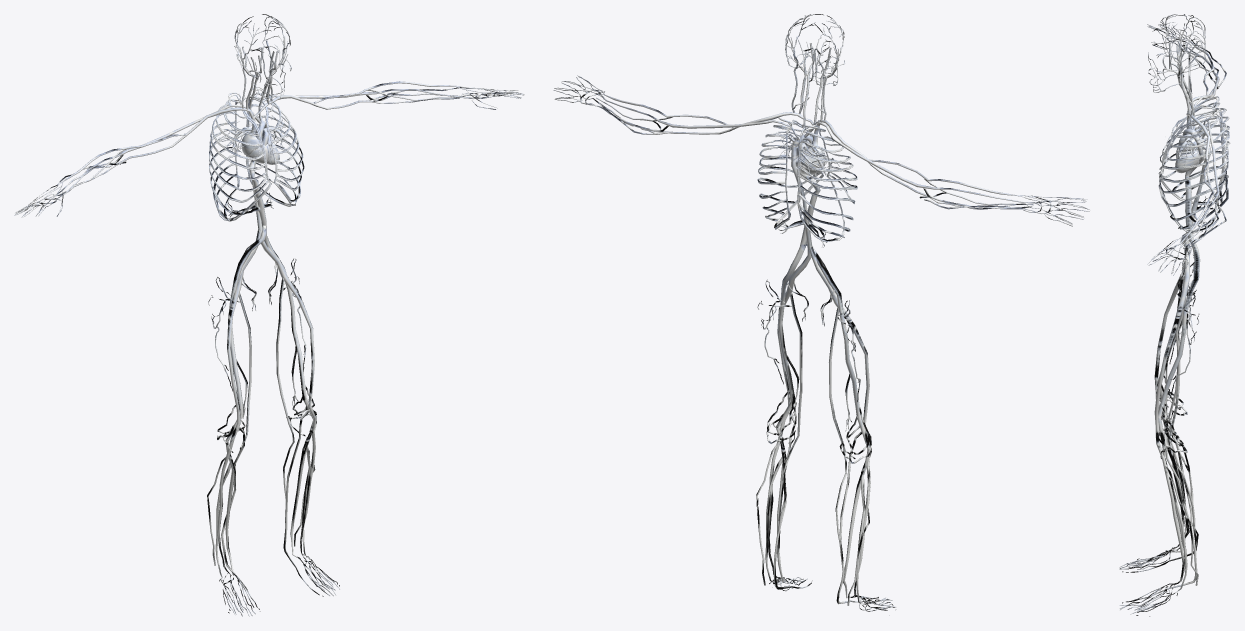
Rendered from circ_ar.fbx.
3 renders of one model, left to right at view 1: azimuth 30°, elevation 25°; view 2: azimuth 150°, elevation 25°; view 3: azimuth 270°, elevation 25°, orthographic. The views are drawn at different scales.
Visible parts, largest first — view 1: Circulatory_Veins1; view 2: Circulatory_Veins1; view 3: Circulatory_Veins1.
Part boxes in pixels (x1,y1,x2,y2): Circulatory_Veins1: (14,14,524,616); Circulatory_Veins1: (553,14,1089,611); Circulatory_Veins1: (1119,14,1230,616).
Bounding box in the file's own units: 45.88 × 49.23 × 8.66.
Materials: 1 (1 with a texture image).
